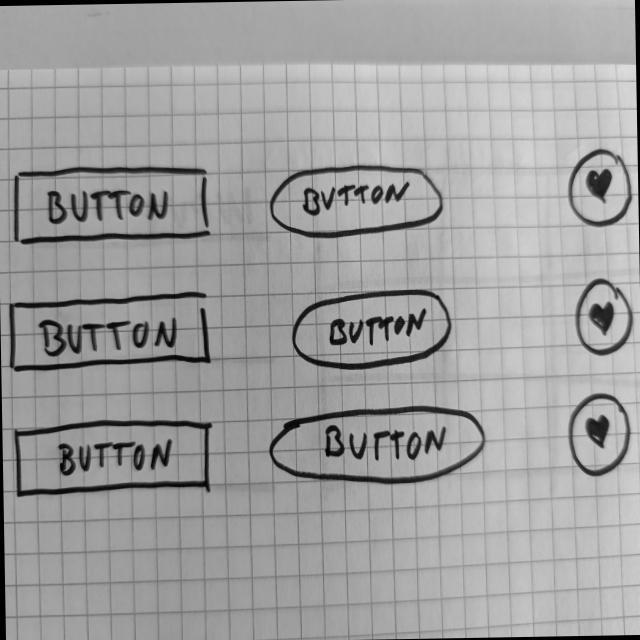button: (266, 402, 488, 486), (10, 162, 216, 250), (7, 290, 213, 374), (12, 416, 214, 498), (289, 284, 457, 371), (268, 160, 446, 242)
icon-button: (564, 146, 635, 230), (564, 391, 632, 478), (572, 275, 636, 358)
